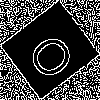O: (25, 25, 85, 84)
